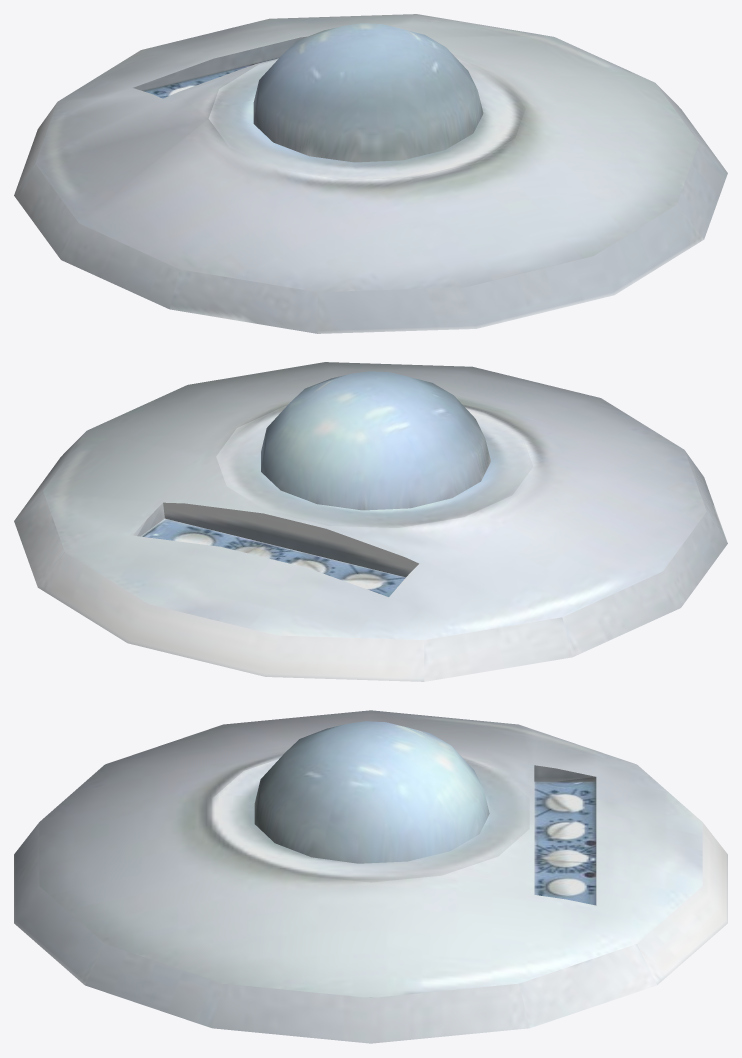
File: IntrusionDetectionSensor.gltf
The picture shows the model from 3 angles, top to bottom: view 1: azimuth 30°, elevation 25°; view 2: azimuth 150°, elevation 25°; view 3: azimuth 270°, elevation 25°; orthographic projection. The views are drawn at different scales.
Parts seen in each view (by area): view 1: IntrusionDetectionSensor; view 2: IntrusionDetectionSensor; view 3: IntrusionDetectionSensor.
Part boxes in pixels (<box>): IntrusionDetectionSensor: <box>14,14,727,333</box>; IntrusionDetectionSensor: <box>14,362,727,681</box>; IntrusionDetectionSensor: <box>14,710,727,1043</box>.
Size of the model in its own units: 2.4 by 0.8157 by 2.34.
Materials: 1 (1 with a texture image).
